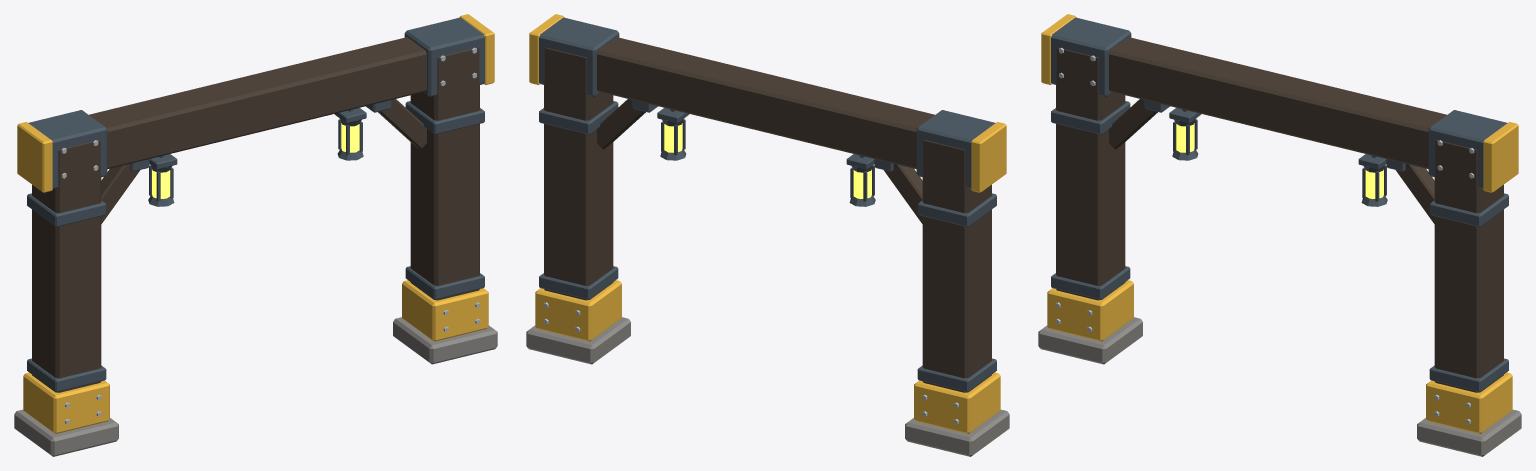
The model's file is Quarry_Gate.fbx.
3 views of the same model, side by side, from view 1: azimuth 30°, elevation 25°; view 2: azimuth 150°, elevation 25°; view 3: azimuth 330°, elevation 25° (orthographic).
Parts seen in each view (by area): view 1: Timber, Frame, Amber_Metal, Stone, Lamp; view 2: Timber, Frame, Amber_Metal, Stone, Lamp; view 3: Timber, Frame, Amber_Metal, Stone, Lamp.
Boxes of the visible parts, box(x1,y1,x2,y2) form: Timber: box(32, 37, 479, 392); Frame: box(27, 17, 484, 392); Amber_Metal: box(17, 14, 494, 433); Stone: box(14, 317, 497, 456); Lamp: box(152, 123, 359, 198); Timber: box(544, 37, 991, 392); Frame: box(539, 17, 996, 392); Amber_Metal: box(529, 14, 1006, 433); Stone: box(526, 317, 1009, 456); Lamp: box(664, 123, 871, 198); Timber: box(1056, 37, 1503, 392); Frame: box(1051, 17, 1508, 392); Amber_Metal: box(1041, 14, 1518, 433); Stone: box(1038, 317, 1521, 456); Lamp: box(1176, 123, 1383, 198).
Size of the model in its own units: 17.2 by 11.33 by 2.6.
